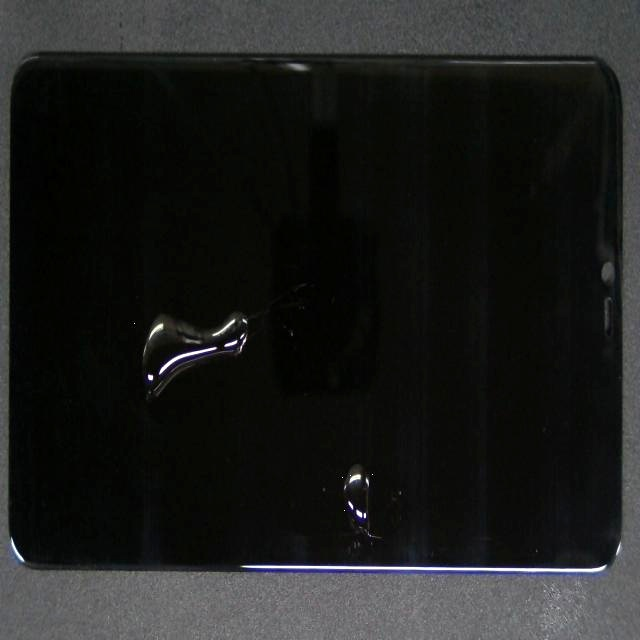oil: (176, 218, 517, 640), (144, 159, 291, 477)
